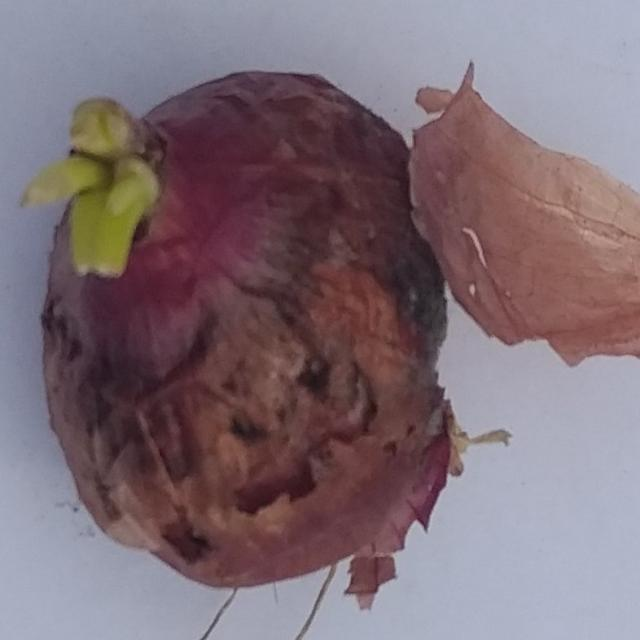onion: (21, 60, 458, 609)
